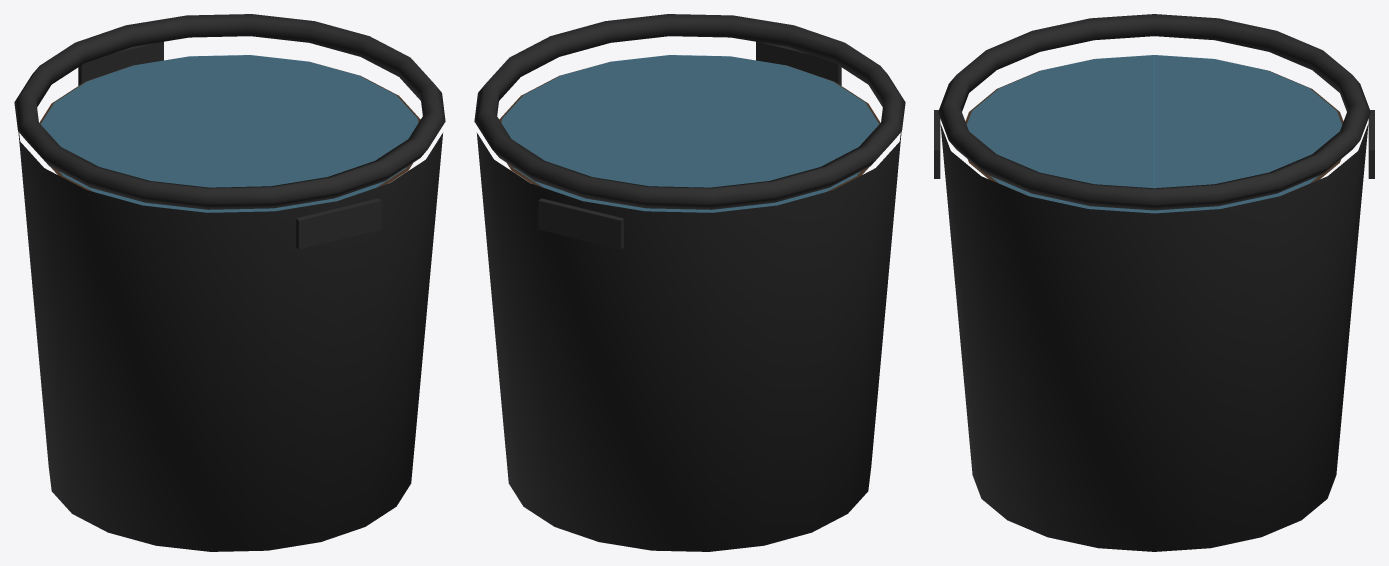
File: vessel--felt_15l.glb
3 renders of one model, left to right at view 1: azimuth 30°, elevation 25°; view 2: azimuth 150°, elevation 25°; view 3: azimuth 270°, elevation 25°, orthographic.
Parts seen in each view (by area): view 1: pot_body, soil_surface, soil_wet, pot_rim, pot_handles; view 2: pot_body, soil_surface, soil_wet, pot_rim, pot_handles; view 3: pot_body, soil_surface, soil_wet, pot_rim, pot_handles.
Boxes of the visible parts, box(x1,y1,x2,y2) form: pot_body: box(18, 132, 443, 551); soil_surface: box(39, 55, 420, 212); soil_wet: box(41, 55, 418, 212); pot_rim: box(14, 14, 445, 209); pot_handles: box(78, 41, 381, 249); pot_body: box(476, 132, 901, 551); soil_surface: box(499, 55, 880, 212); soil_wet: box(501, 55, 878, 212); pot_rim: box(474, 14, 905, 209); pot_handles: box(538, 41, 841, 249); pot_body: box(940, 124, 1368, 551); soil_surface: box(965, 55, 1343, 213); soil_wet: box(967, 55, 1341, 213); pot_rim: box(938, 14, 1370, 210); pot_handles: box(934, 110, 1374, 178).
Size of the model in its own units: 0.273 by 0.2596 by 0.278.
